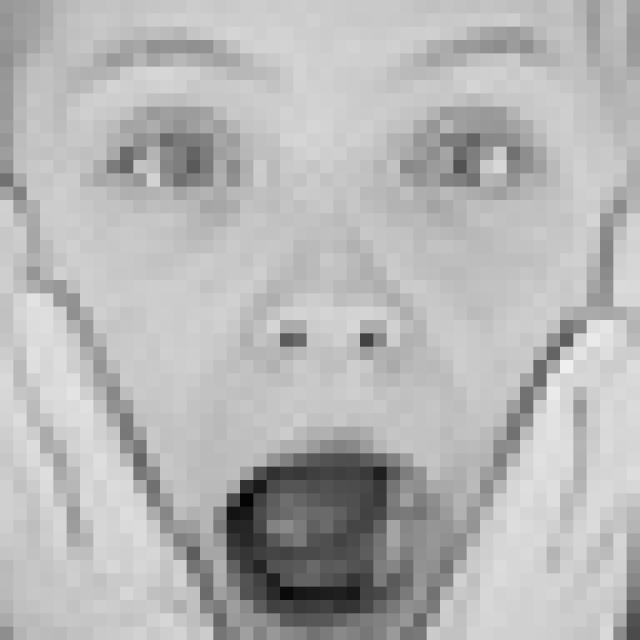surprise: (79, 25, 568, 640)
